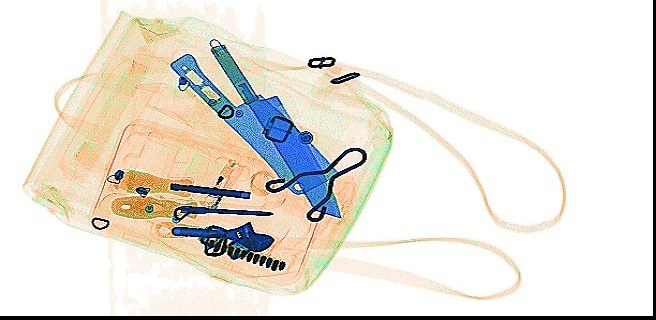knife: (207, 35, 341, 219), (168, 52, 339, 195)
lighter: (197, 154, 244, 212)
slingshot: (263, 144, 366, 221)
